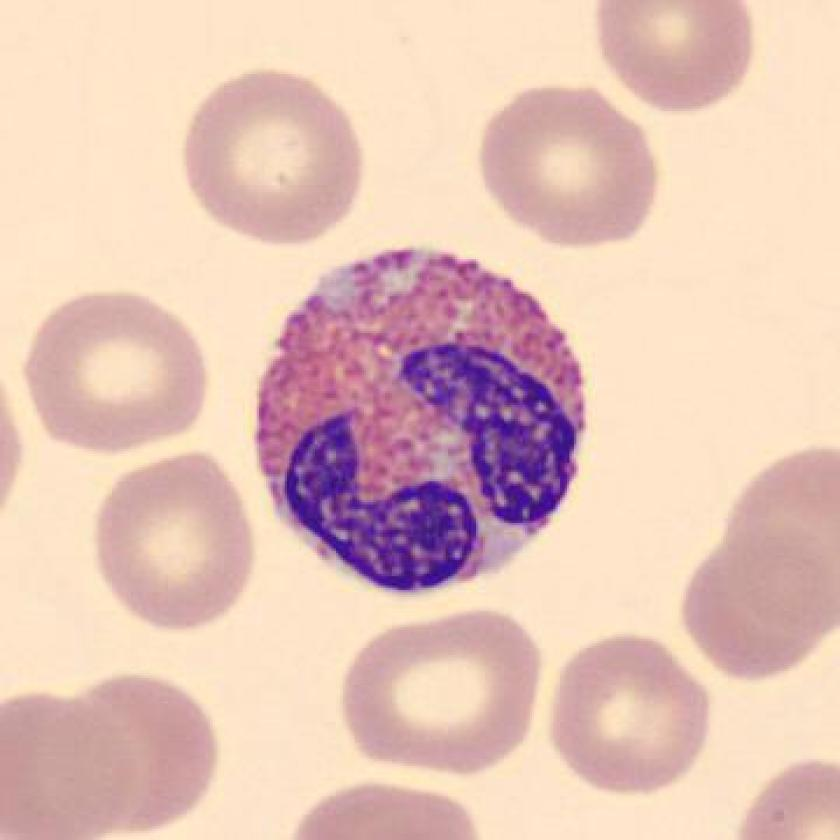eosinophil: (244, 239, 603, 598)
